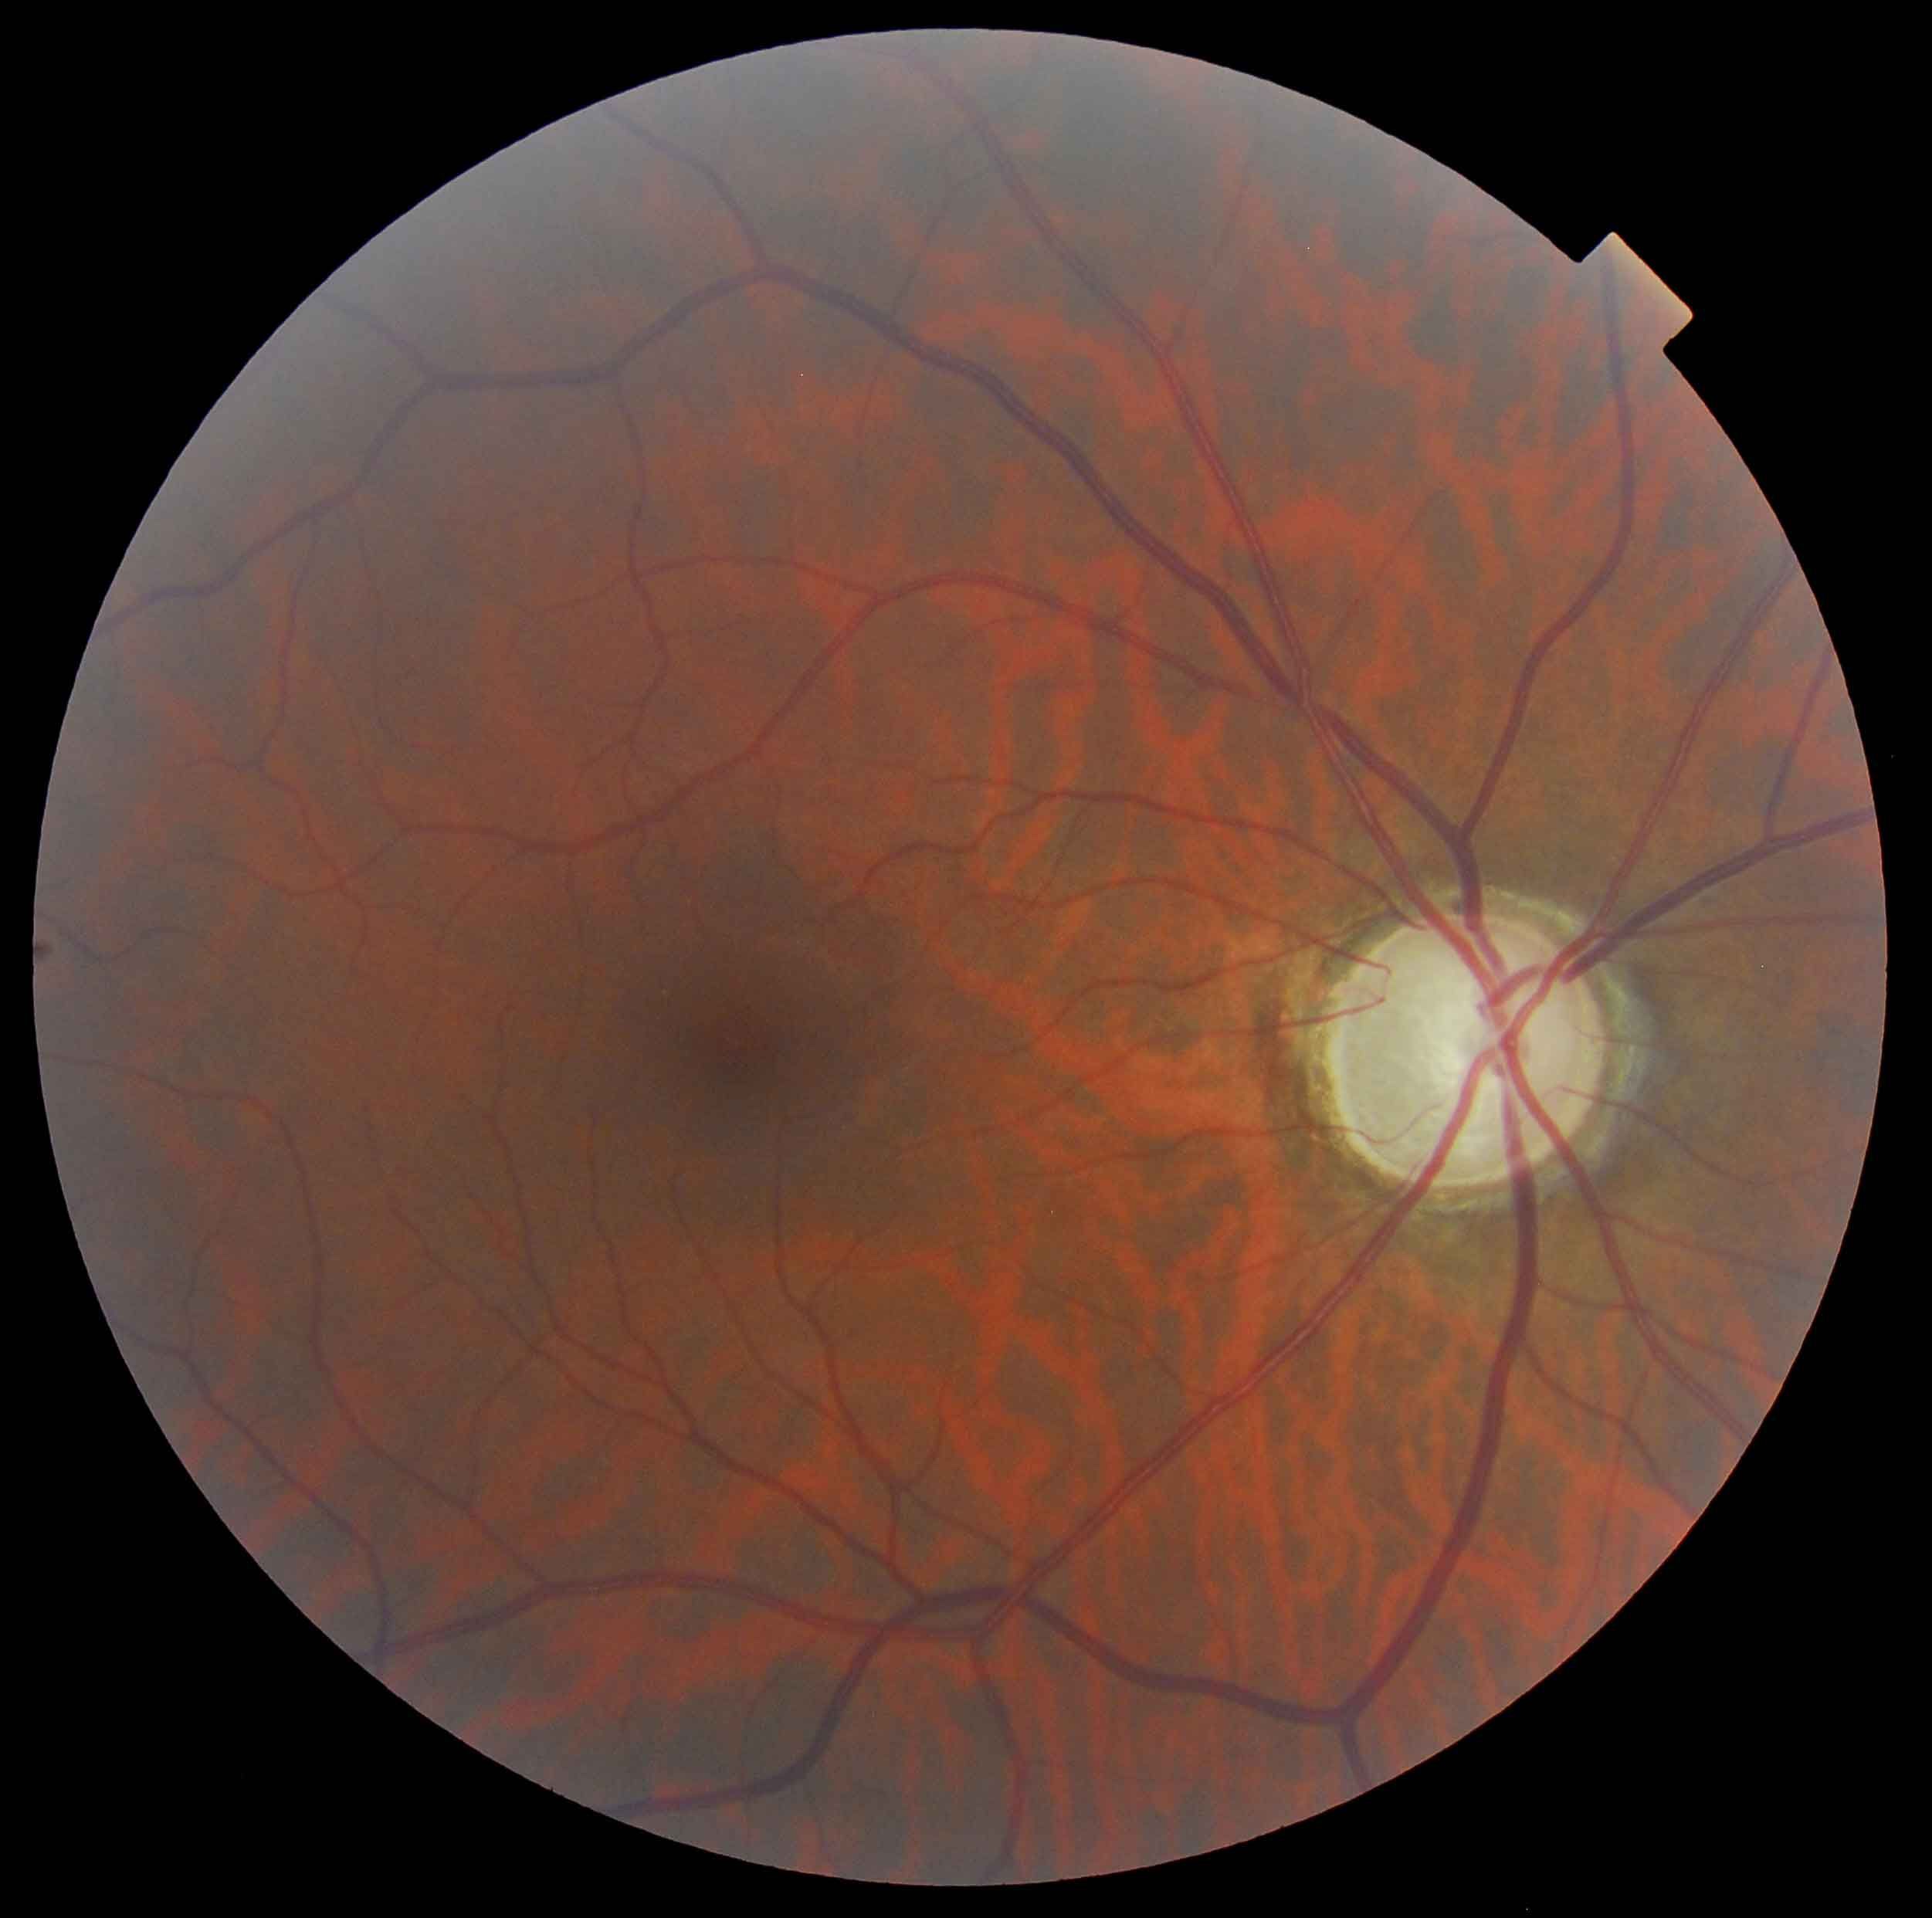Glaucoma section-1: (1393, 975, 1560, 1129)
Glaucoma section-2: (1324, 890, 1626, 1207)
